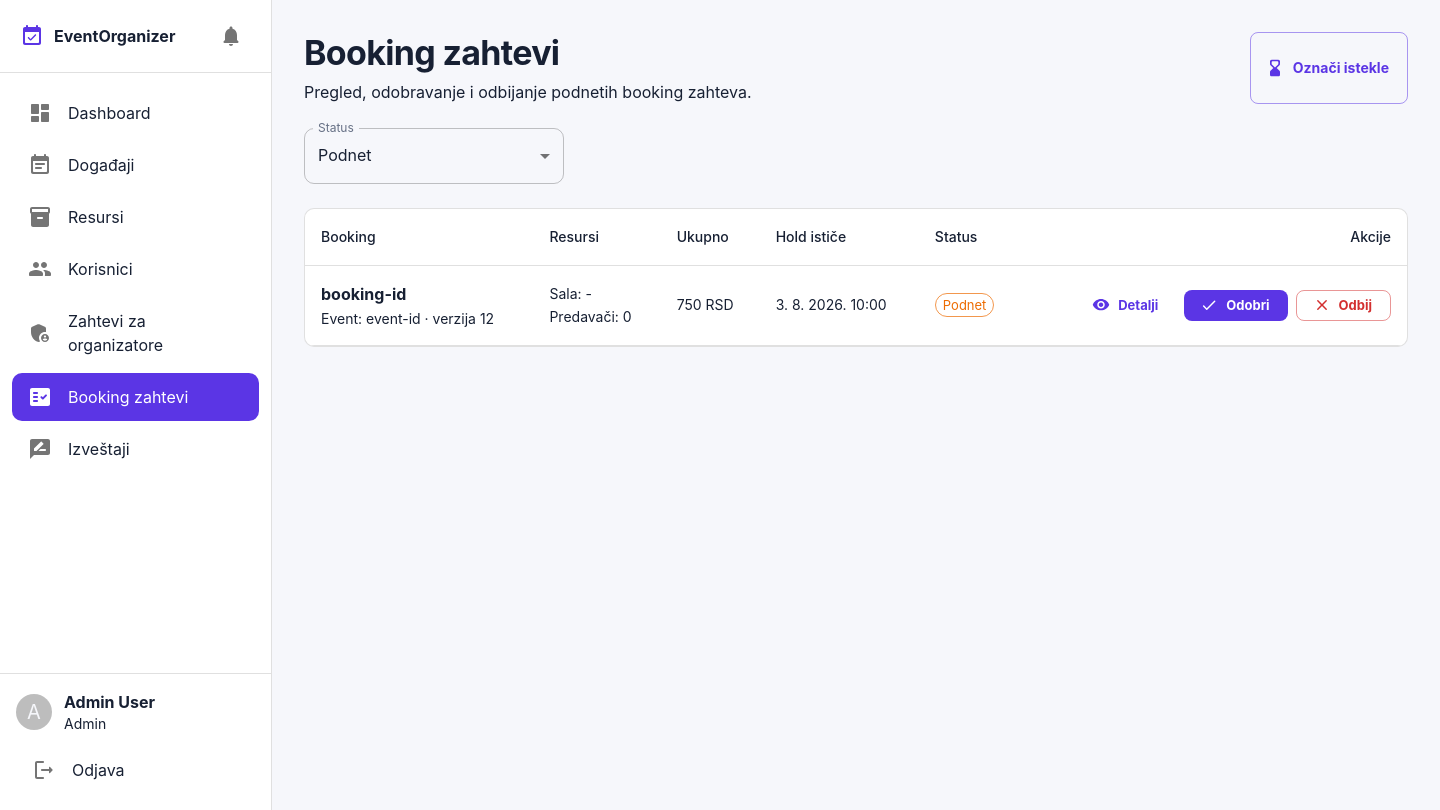
App › loads admin bookings by selected status and shows conflict errors
Expected: the text "booking-id" is shown, [321,284,406,304]
Click the dropdown named "Status". click: (345, 156)
box: [318,146,372,166]
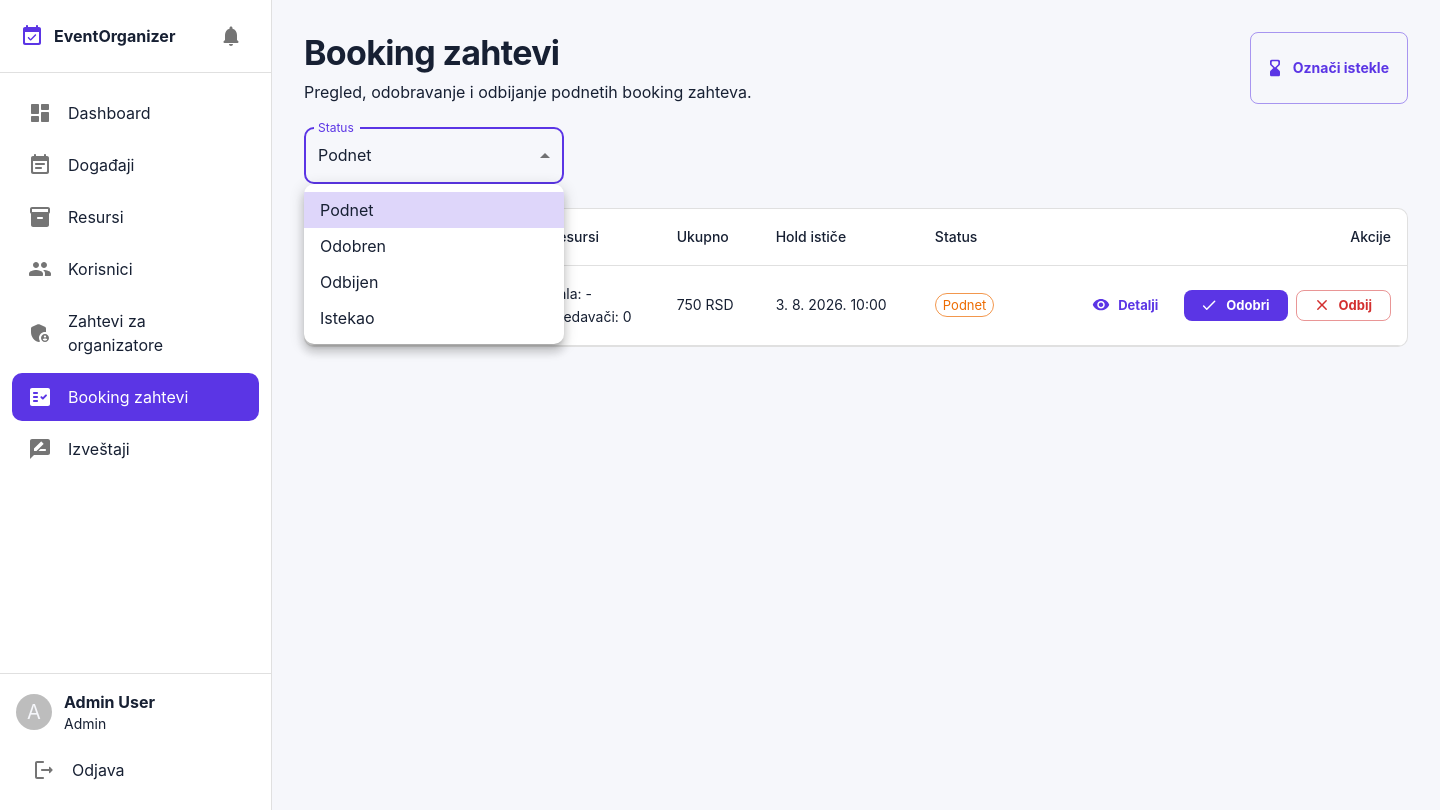
Click the option "Odobren". click: (353, 246)
box: [320,236,386,256]
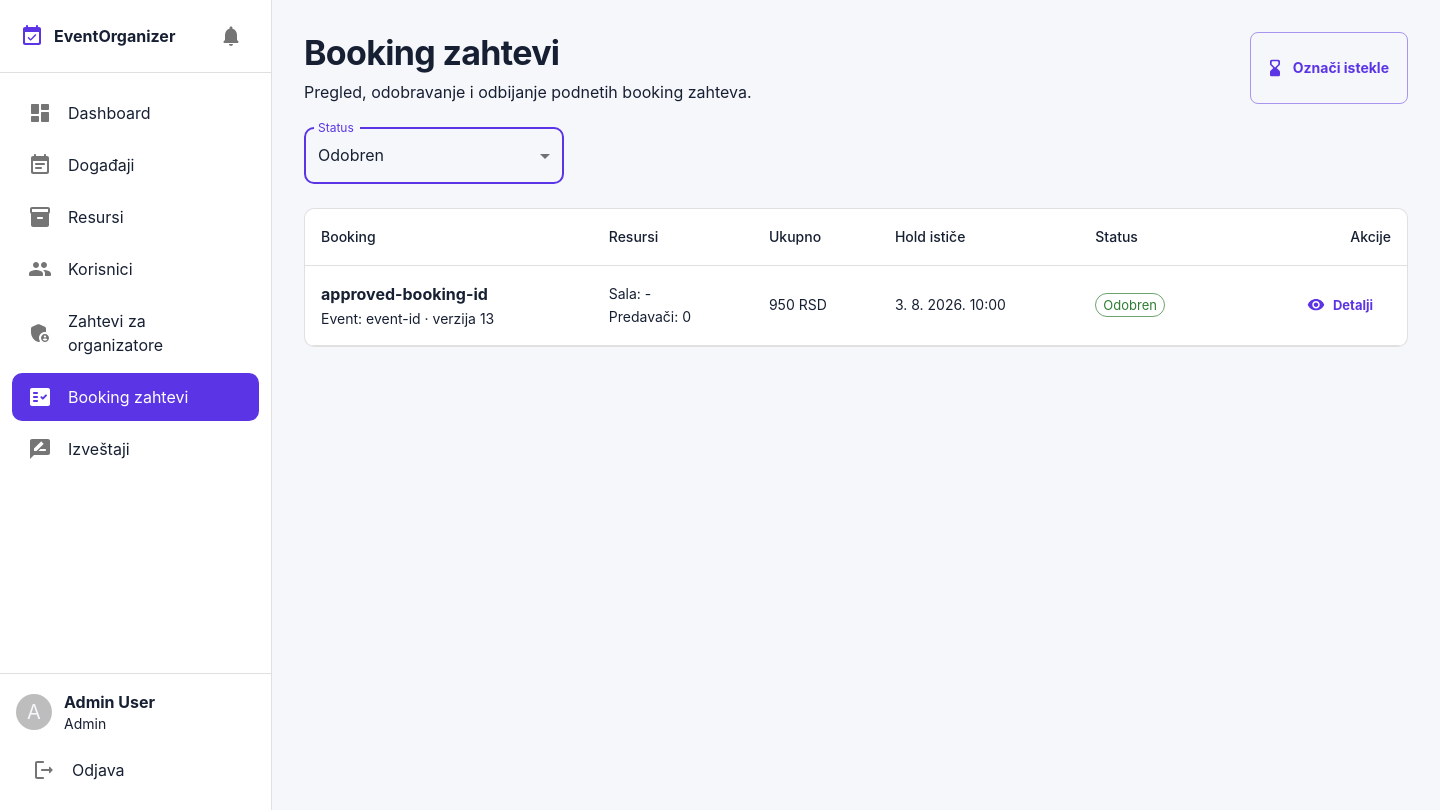
Result: the text "approved-booking-id" is shown at [321,284,488,304]
Click the dropdown named "Status". click: (351, 156)
box: [318,146,384,166]
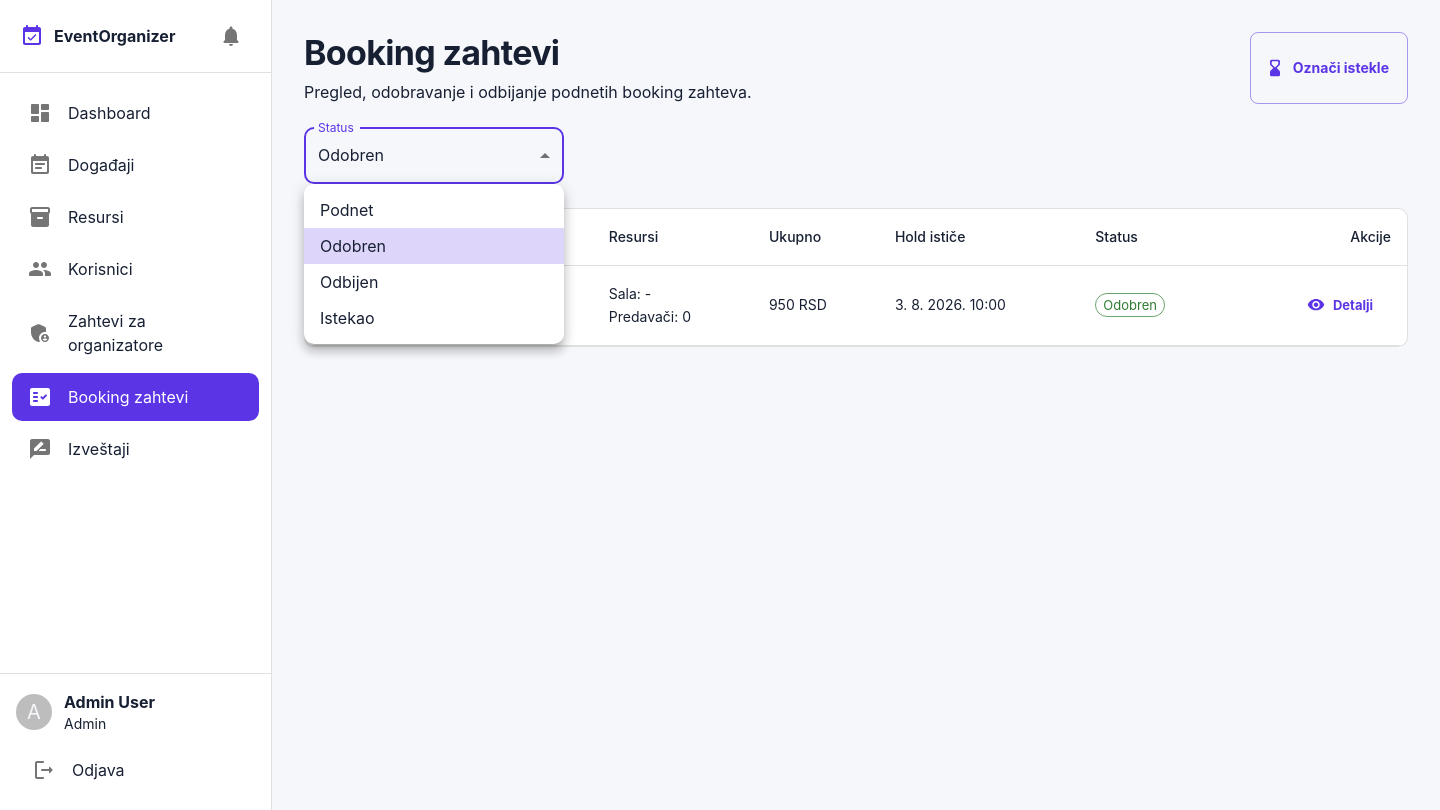
Click the option "Podnet". click: (347, 210)
box: [320,200,374,220]
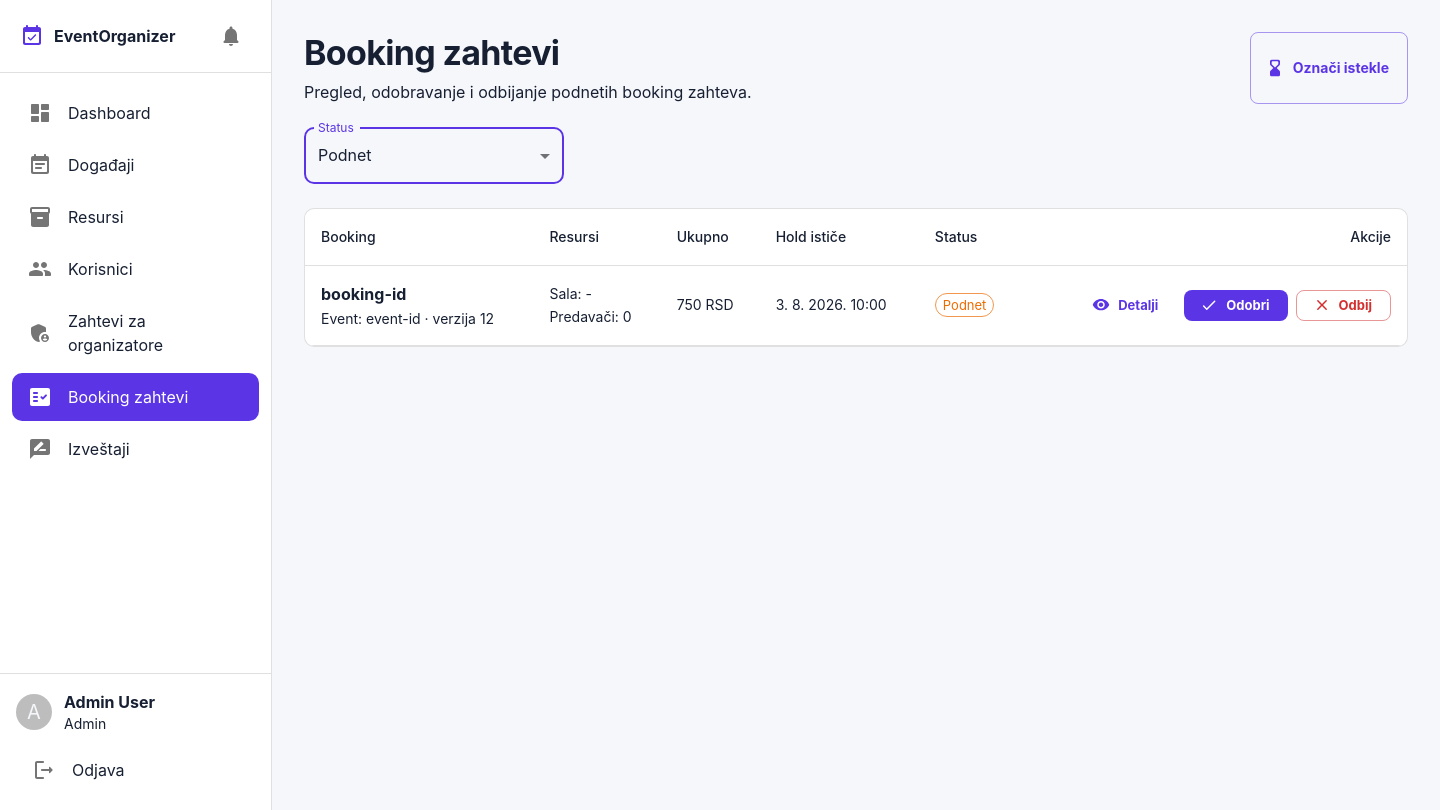
Expected: the text "booking-id" is shown, [321,284,406,304]
Click the button "Odobri". click: (1236, 305)
box: [1184,290,1288,321]
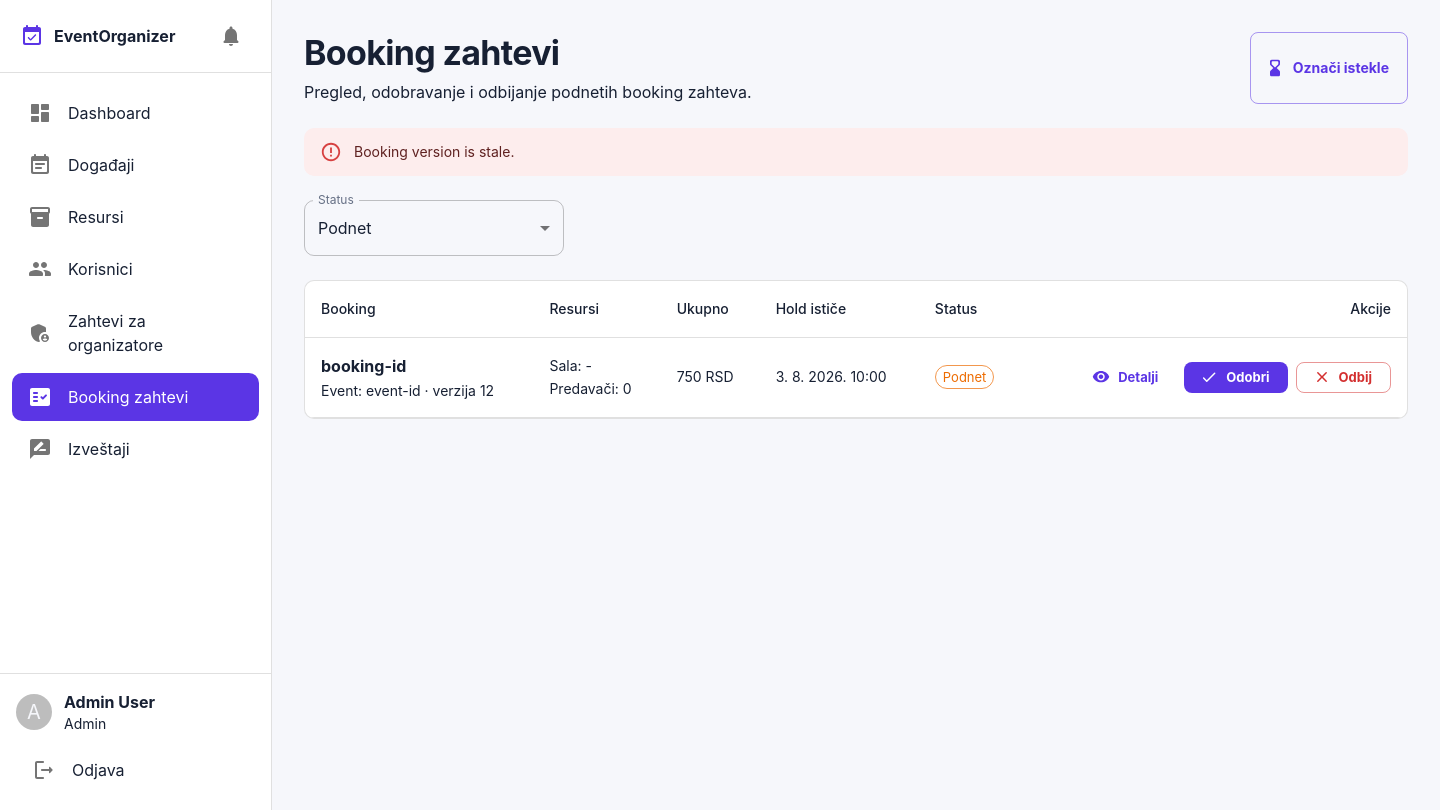
Result: the text "Booking version is stale." is shown at [354,143,514,160]
